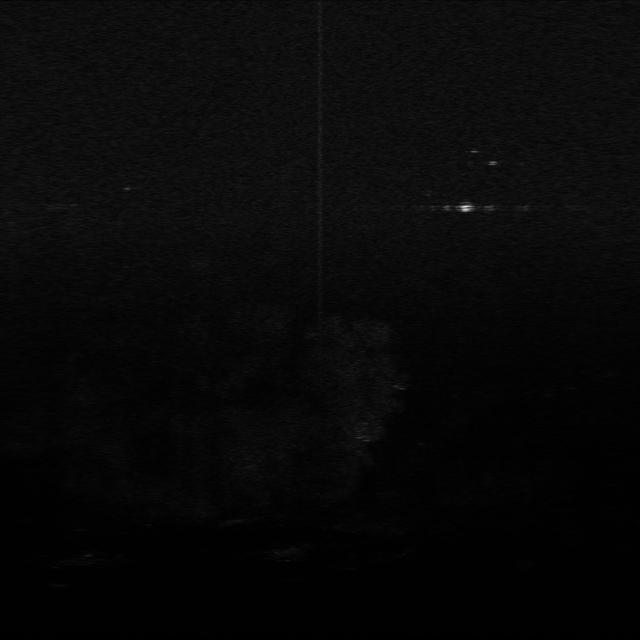rov: (452, 199, 479, 216)
